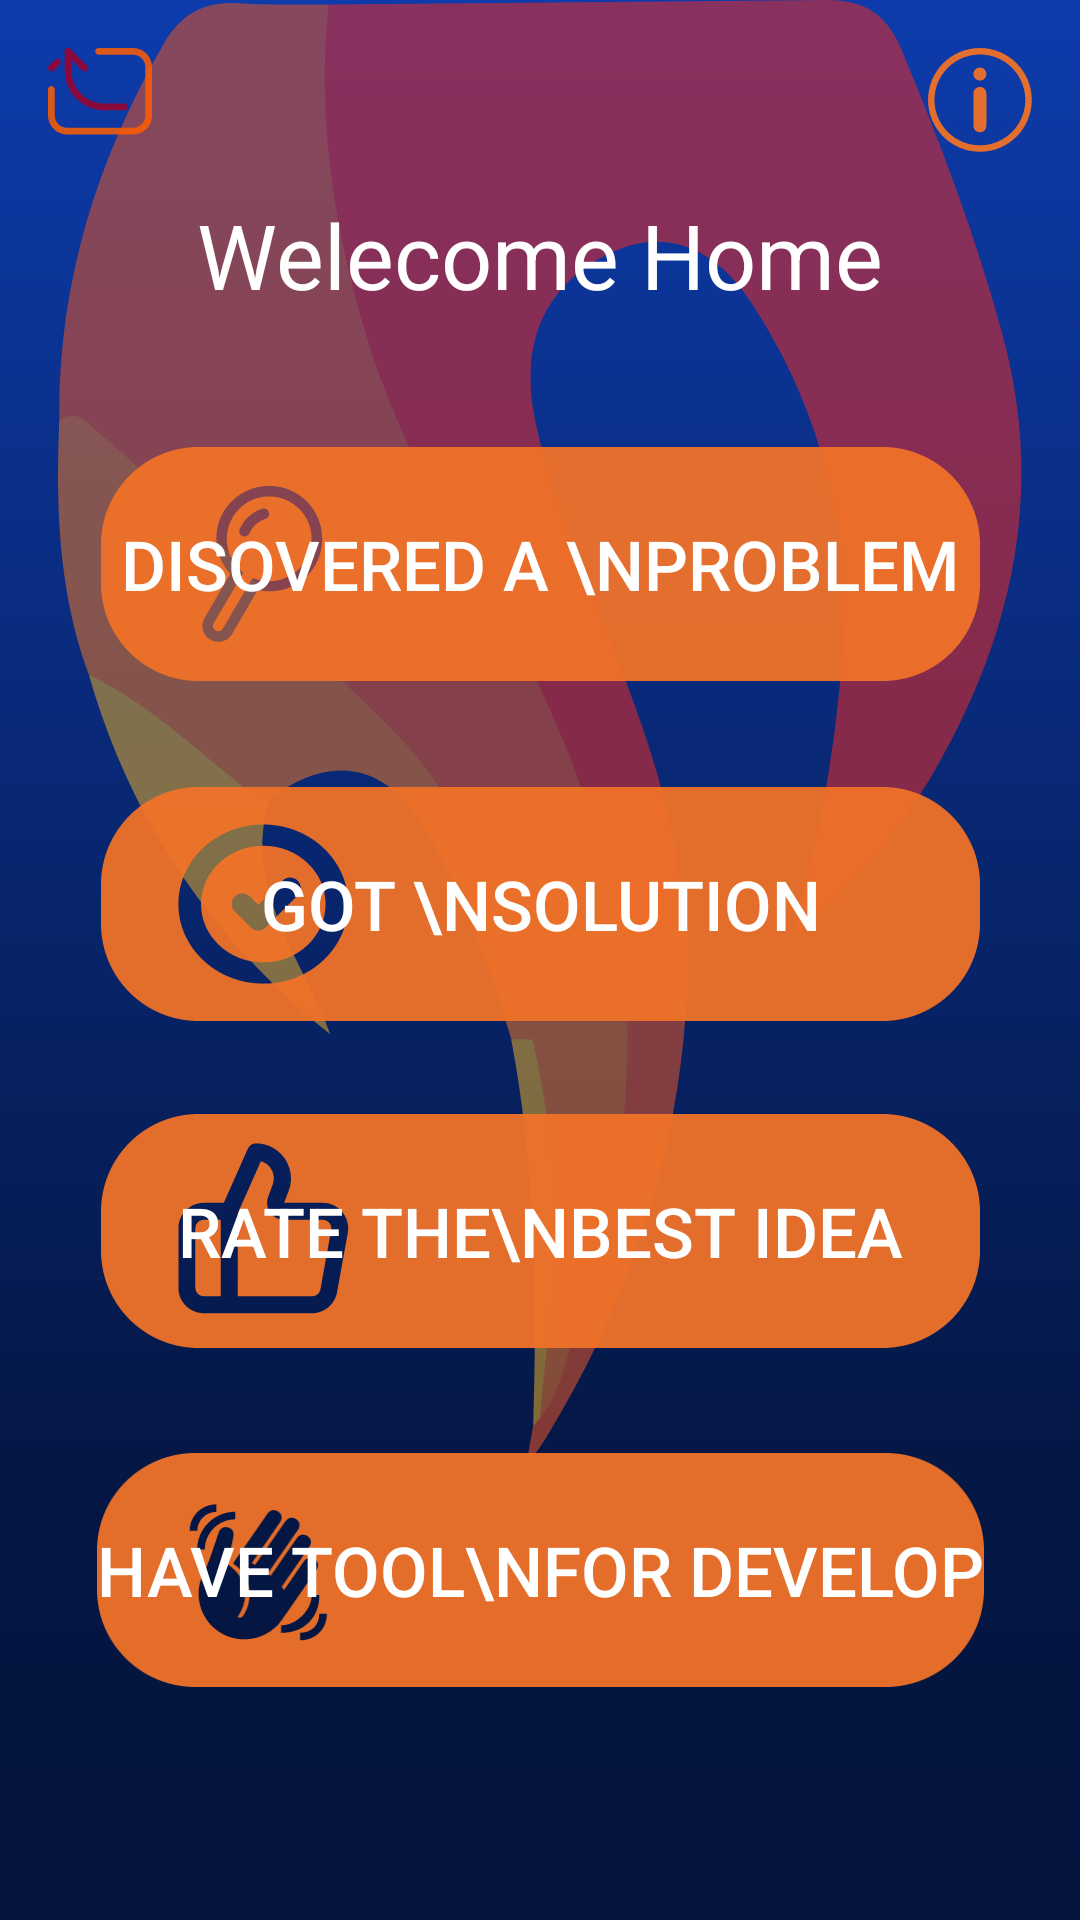

Icons on this 1080×1920 Android screen, each with its box as (x1, y1, x2, y2):
info but: (928, 48, 1032, 152)
